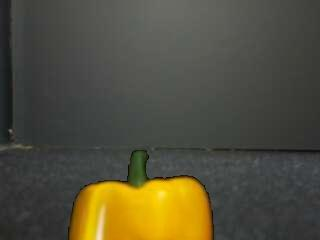Capsicum: (65, 147, 217, 240)
